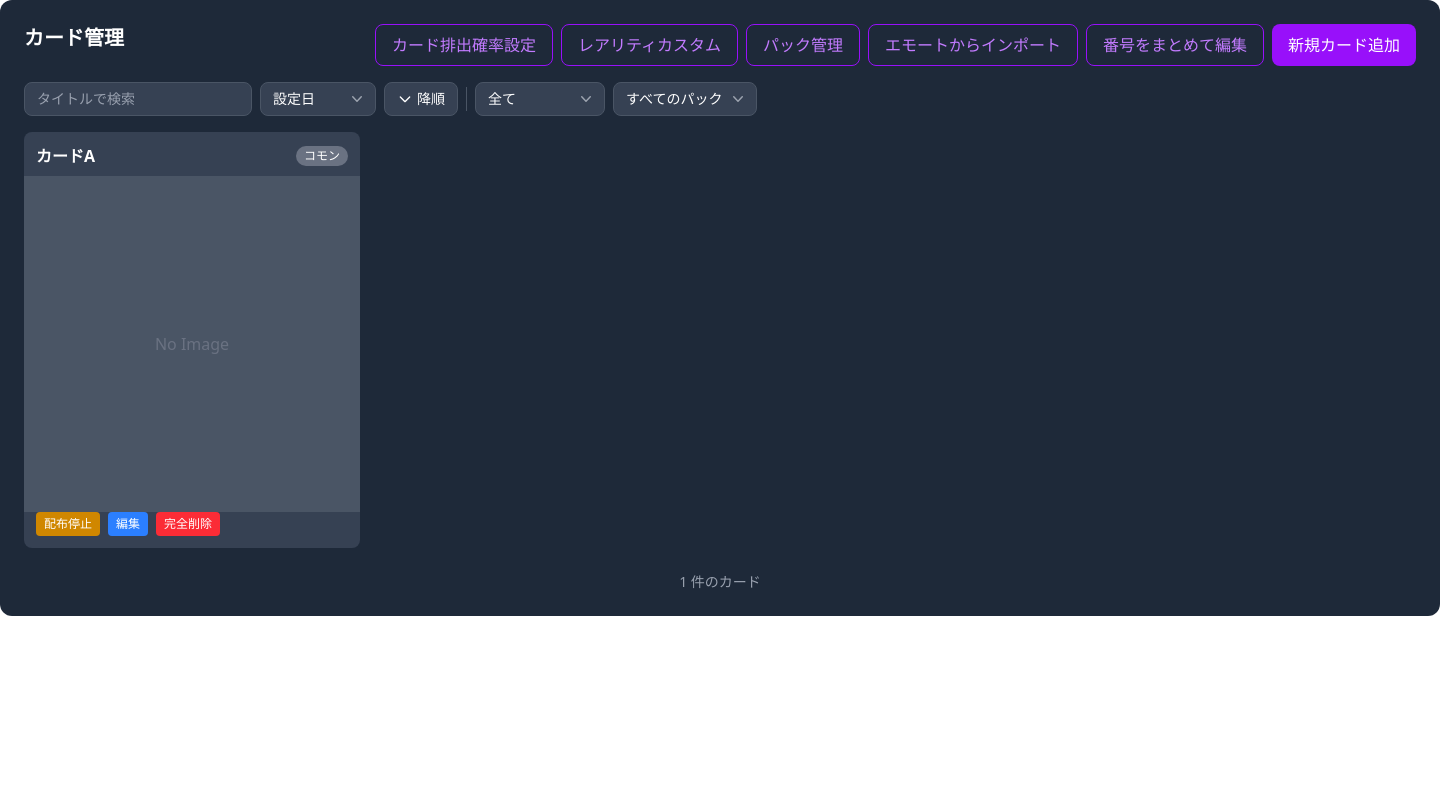
Test: CardManager maintenance integration › cutover-validating でも同様にdisableされる
The width and height of the screenshot is (1440, 810).
Click the button "新規カード追加".
click(1344, 45)  # box [1272,24,1416,66]
(page scrolled)
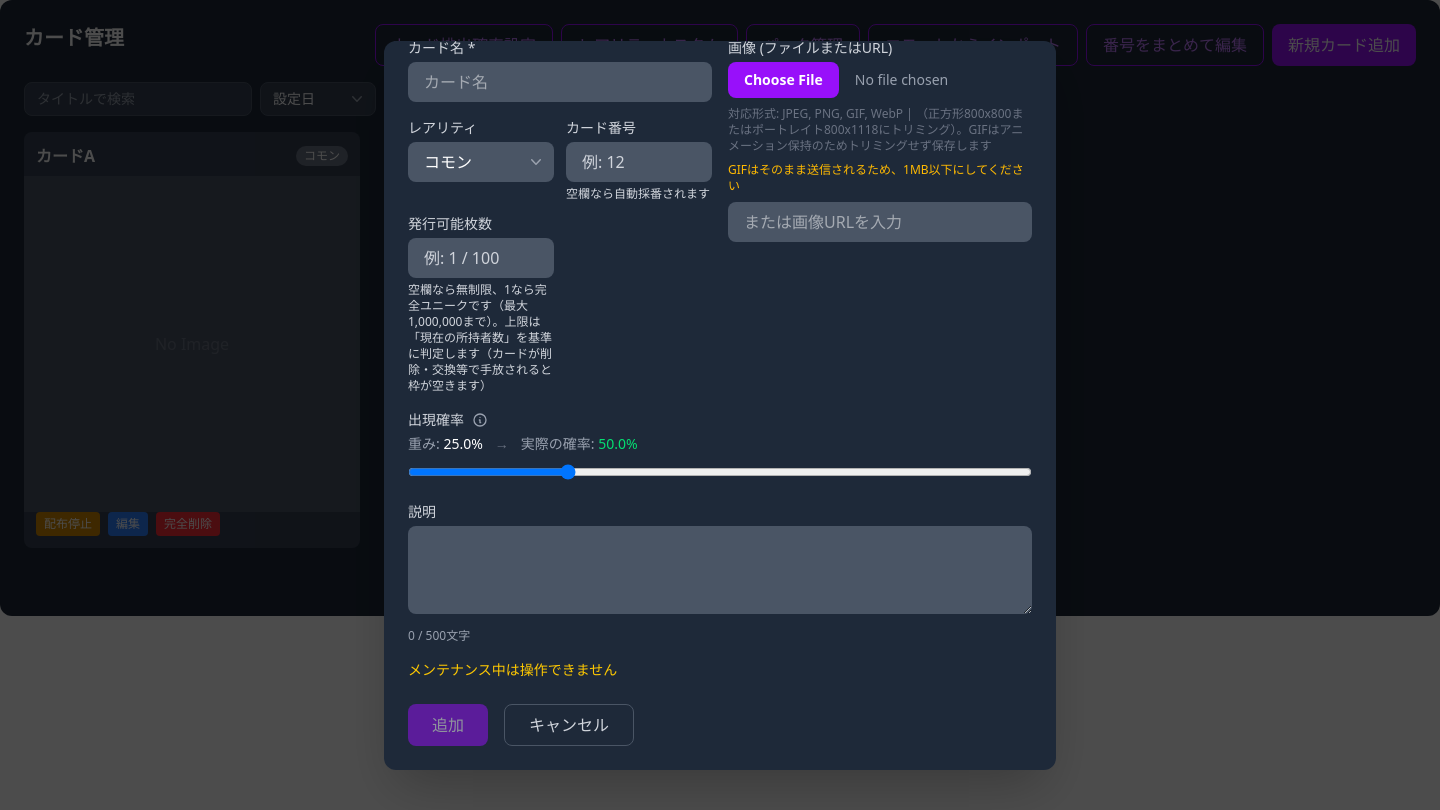
Check: the button "追加" is disabled, box [408,704,488,746]
